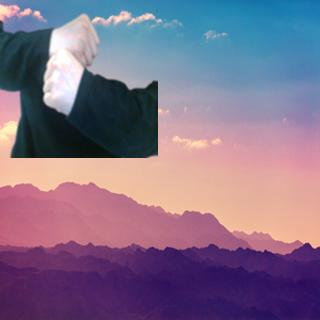CAREFUL: (35, 9, 105, 122)
